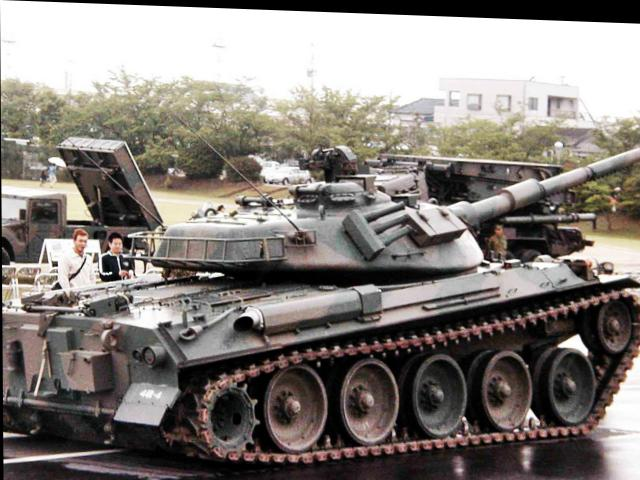other: (59, 229, 92, 290), (104, 221, 125, 283), (488, 221, 506, 252)
tank: (16, 157, 631, 461)
